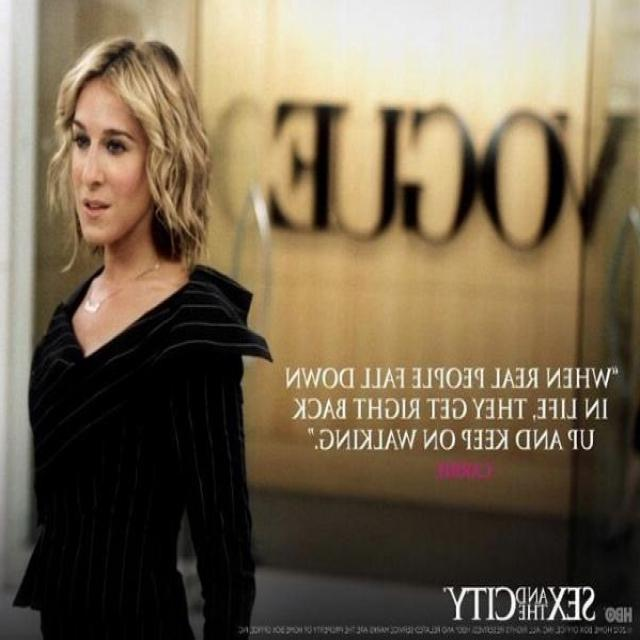adult: (19, 37, 256, 640)
